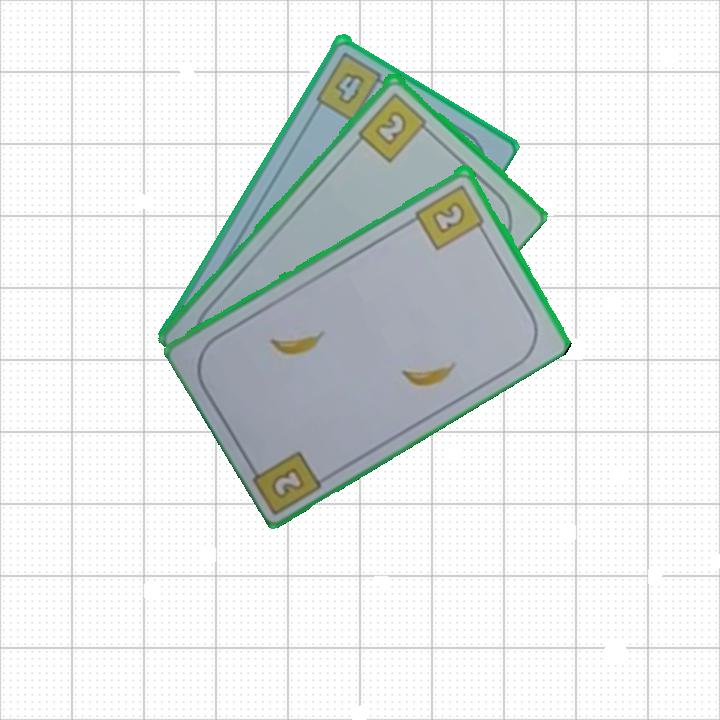2b: (354, 88, 435, 165), (412, 180, 489, 253), (267, 463, 308, 501)
4b: (312, 47, 392, 123)
